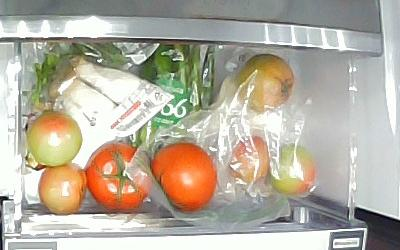tomato: (84, 142, 154, 212), (149, 141, 217, 213), (27, 110, 82, 166), (37, 161, 87, 215)
tomato_vinyl: (236, 52, 295, 112), (266, 142, 315, 195), (225, 134, 270, 183)
